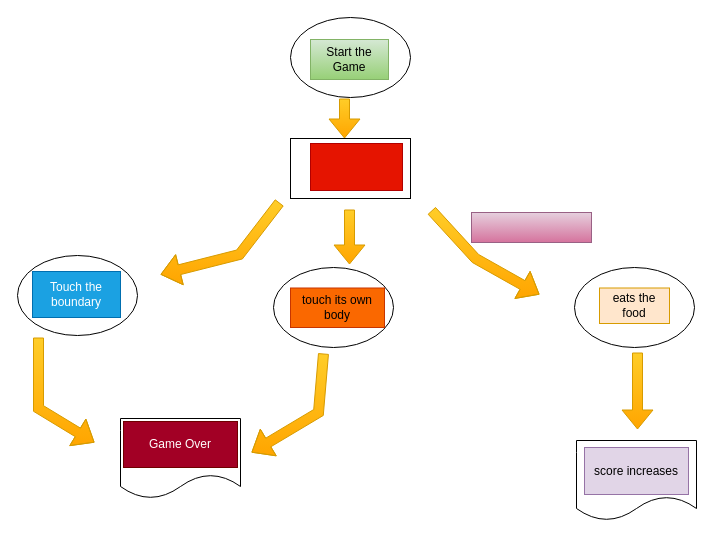
The diagram is 714 pixels wide and 538 high, and some of its shapes have lost their labels. The shapes that lost their labels are listed below. From the top down, each one's centre as x and y in pixels, then its label:
At pixel 356 166: "Snake is moving".
At pixel 531 227: "left, right, up, down".
